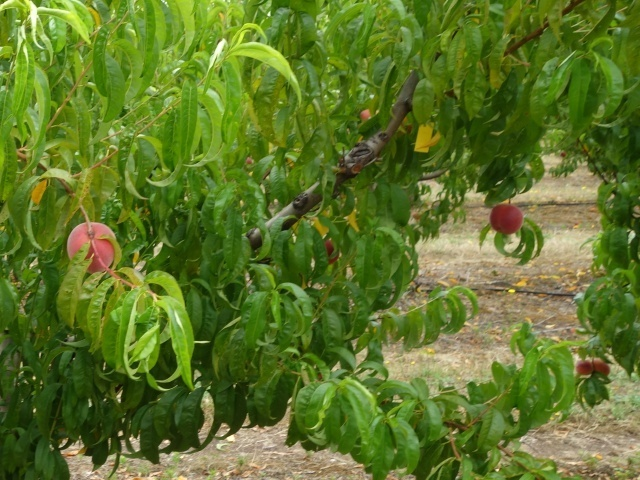peach: (64, 217, 121, 278), (484, 198, 524, 240), (569, 352, 597, 379), (590, 352, 617, 380), (320, 238, 341, 266)
